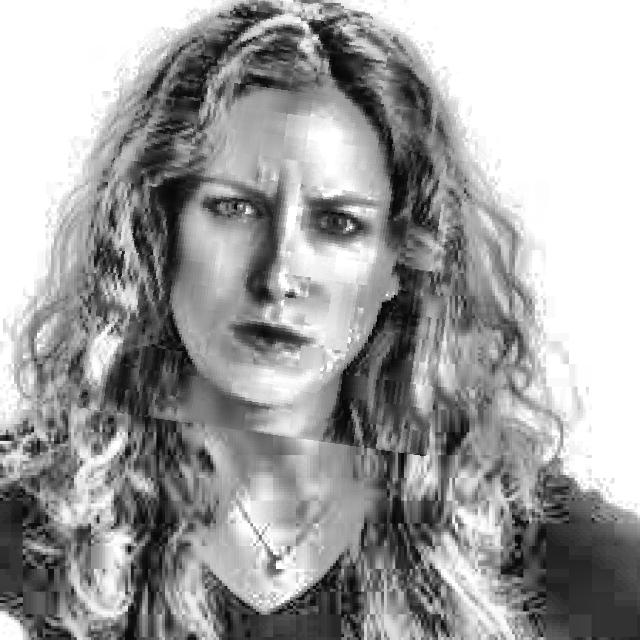angry: (92, 0, 471, 445)
